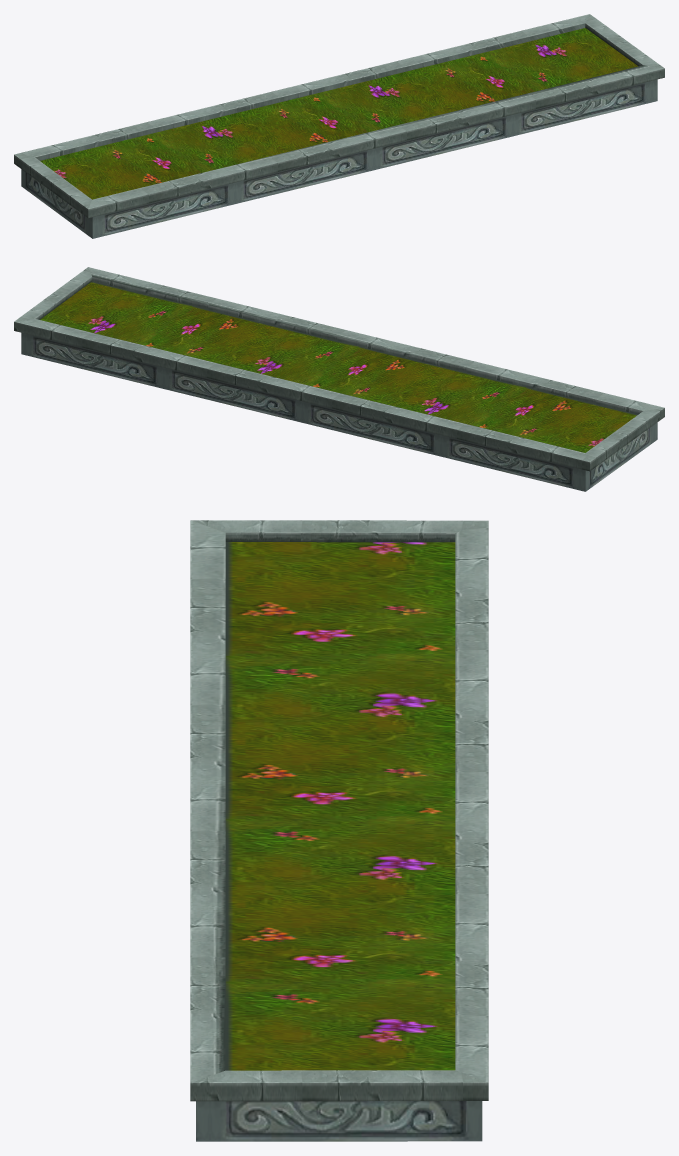
Rendered from szc_object_huatan_03.FBX.
3 views of the same model, one above another, from view 1: azimuth 30°, elevation 25°; view 2: azimuth 150°, elevation 25°; view 3: azimuth 270°, elevation 25° (orthographic). The views are drawn at different scales.
Parts seen in each view (by area): view 1: szc_object_huatan_03; view 2: szc_object_huatan_03; view 3: szc_object_huatan_03.
Boxes of the visible parts, left/top/right/bottom form: szc_object_huatan_03: left=14, top=14, right=664, bottom=238; szc_object_huatan_03: left=14, top=267, right=664, bottom=491; szc_object_huatan_03: left=190, top=520, right=488, bottom=1141.
Size of the model in its own units: 672 by 35.85 by 151.
